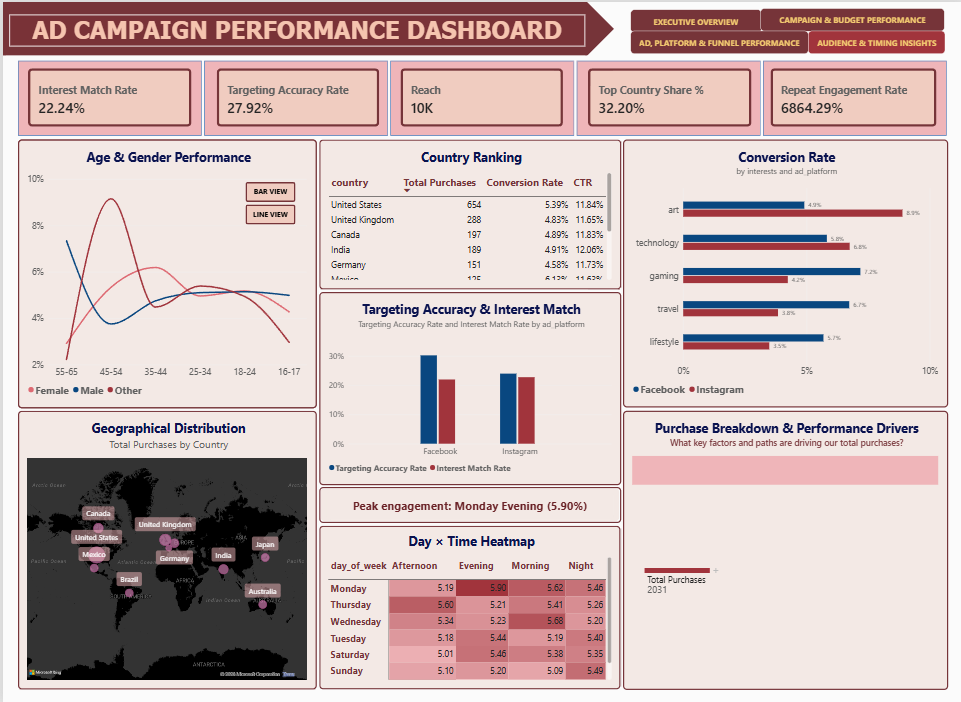

This screenshot's page, from the dashboard's own definition file:
{"tool":"powerbi","page":{"name":"Audience & Timing Insights","canvas":[1920,1400],"ordinal":3},"visuals":[{"type":"shape","box":[632,970,604,72],"z":0},{"type":"shape","box":[1147.5,117.5,367.5,150],"z":1000},{"type":"shape","box":[775,117.5,367.5,150],"z":2000},{"type":"shape","box":[402.5,117.5,367.5,150],"z":3000},{"type":"shape","box":[30,117.5,367.5,150],"z":4000},{"type":"shape","box":[1520,117.5,367.5,150],"z":5000},{"type":"cardVisual","fields":{"Data":["Measures Table.Targeting Accuracy Rate"]},"box":[427.5,132.5,325,117.5],"z":6000},{"type":"cardVisual","fields":{"Data":["Measures Table.Interest Match Rate"]},"box":[50,132.5,327.5,117.5],"z":7000},{"type":"cardVisual","fields":{"Data":["Measures Table.Reach"]},"box":[795,132.5,325,117.5],"z":8000},{"type":"cardVisual","fields":{"Data":["Measures Table.Top Country Share %"]},"box":[1170,132.5,327.5,117.5],"z":9000},{"type":"cardVisual","fields":{"Data":["Measures Table.Repeat Engagement Rate"]},"box":[1535,132.5,332.5,117.5],"z":10000},{"type":"clusteredBarChart","title":"Age & Gender Performance","fields":{"Category":["Users.age_group"],"Series":["Users.user_gender"],"Y":["Measures Table.Conversion Rate"]},"box":[30,275,597.5,537.5],"z":11000},{"type":"pivotTable","title":"Day × Time Heatmap","fields":{"Columns":["AdEvents.time_of_day"],"Rows":["AdEvents.day_of_week"],"Values":["Measures Table.Time Slot Engagement Rate"]},"box":[632.5,1047.5,602.5,327.5],"z":12000},{"type":"clusteredColumnChart","title":"Targeting Accuracy & Interest Match","fields":{"Category":["Ads.ad_platform"],"Y":["Measures Table.Targeting Accuracy Rate","Measures Table.Interest Match Rate"]},"box":[632,580,604,386],"z":13000},{"type":"tableEx","title":"Country Ranking","fields":{"Values":["Users.country","Measures Table.Total Purchases","Measures Table.Conversion Rate","Measures Table.CTR"]},"box":[632,276,604,300],"z":14000},{"type":"decompositionTreeVisual","title":"Purchase Breakdown & Performance Drivers","fields":{"Analyze":["Measures Table.Total Purchases"],"ExplainBy":["Ads.ad_type","AdEvents.time_of_day","Users.age_group","Ads.ad_platform"]},"box":[1240,818,650,558],"z":15000},{"type":"clusteredBarChart","fields":{"Category":["Users.interests"],"Series":["Ads.ad_platform"],"Y":["Measures Table.Conversion Rate"]},"box":[1240,276,650,536],"z":16000},{"type":"map","title":"Geographical Distribution","fields":{"Category":["Users.country"],"Size":["Measures Table.Total Purchases"]},"box":[30,817.5,597.5,557.5],"z":17000},{"type":"actionButton","title":"EXECUTIVE OVERVIEW","box":[1256,14,262,46],"z":18000},{"type":"actionButton","title":"CAMPAIGN & BUDGET PERFORMANCE","box":[1516,12,368,46],"z":19000},{"type":"actionButton","title":"AD, PLATFORM & FUNNEL PERFORMANCE","box":[1256,58,356,46],"z":20000},{"type":"actionButton","title":"AUDIENCE & TIMING INSIGHTS","box":[1610,58,274,46],"z":21000},{"type":"shape","box":[0,0,1222.5,107.5],"z":22000},{"type":"textbox","box":[12,26,1152,64],"z":23000},{"type":"lineChart","title":"Age & Gender Performance","fields":{"Category":["Users.age_group"],"Series":["Users.user_gender"],"Y":["Measures Table.Conversion Rate"]},"box":[30,276,597.5,537.5],"z":24000},{"type":"actionButton","title":"A","box":[486,360,100,40],"z":25000},{"type":"actionButton","box":[486,406,100,40],"z":26000},{"type":"cardVisual","fields":{"Data":["Measures Table.Peak Engagement Slot"]},"box":[647.5,980,574,55],"z":27000}]}

Visuals, with their boxes in screenshot pixels (x1, y1, x2, y2), scaled from the page's 1920x1400 canvas onto the 961x702 screenshot:
shape: {"left": 316, "top": 486, "right": 619, "bottom": 522}
shape: {"left": 574, "top": 59, "right": 758, "bottom": 134}
shape: {"left": 388, "top": 59, "right": 572, "bottom": 134}
shape: {"left": 201, "top": 59, "right": 385, "bottom": 134}
shape: {"left": 15, "top": 59, "right": 199, "bottom": 134}
shape: {"left": 761, "top": 59, "right": 945, "bottom": 134}
cardVisual - Measures Table.Targeting Accuracy Rate: {"left": 214, "top": 66, "right": 377, "bottom": 125}
cardVisual - Measures Table.Interest Match Rate: {"left": 25, "top": 66, "right": 189, "bottom": 125}
cardVisual - Measures Table.Reach: {"left": 398, "top": 66, "right": 561, "bottom": 125}
cardVisual - Measures Table.Top Country Share %: {"left": 586, "top": 66, "right": 750, "bottom": 125}
cardVisual - Measures Table.Repeat Engagement Rate: {"left": 768, "top": 66, "right": 935, "bottom": 125}
"Age & Gender Performance" clusteredBarChart: {"left": 15, "top": 138, "right": 314, "bottom": 407}
"Day × Time Heatmap" pivotTable: {"left": 317, "top": 525, "right": 618, "bottom": 689}
"Targeting Accuracy & Interest Match" clusteredColumnChart: {"left": 316, "top": 291, "right": 619, "bottom": 484}
"Country Ranking" tableEx: {"left": 316, "top": 138, "right": 619, "bottom": 289}
"Purchase Breakdown & Performance Drivers" decompositionTreeVisual: {"left": 621, "top": 410, "right": 946, "bottom": 690}
clusteredBarChart - Users.interests x Ads.ad_platform: {"left": 621, "top": 138, "right": 946, "bottom": 407}
"Geographical Distribution" map: {"left": 15, "top": 410, "right": 314, "bottom": 689}
"EXECUTIVE OVERVIEW" actionButton: {"left": 629, "top": 7, "right": 760, "bottom": 30}
"CAMPAIGN & BUDGET PERFORMANCE" actionButton: {"left": 759, "top": 6, "right": 943, "bottom": 29}
"AD, PLATFORM & FUNNEL PERFORMANCE" actionButton: {"left": 629, "top": 29, "right": 807, "bottom": 52}
"AUDIENCE & TIMING INSIGHTS" actionButton: {"left": 806, "top": 29, "right": 943, "bottom": 52}
shape: {"left": 0, "top": 0, "right": 612, "bottom": 54}
textbox: {"left": 6, "top": 13, "right": 583, "bottom": 45}
"Age & Gender Performance" lineChart: {"left": 15, "top": 138, "right": 314, "bottom": 408}
"A" actionButton: {"left": 243, "top": 181, "right": 293, "bottom": 201}
actionButton: {"left": 243, "top": 204, "right": 293, "bottom": 224}
cardVisual - Measures Table.Peak Engagement Slot: {"left": 324, "top": 491, "right": 611, "bottom": 519}
